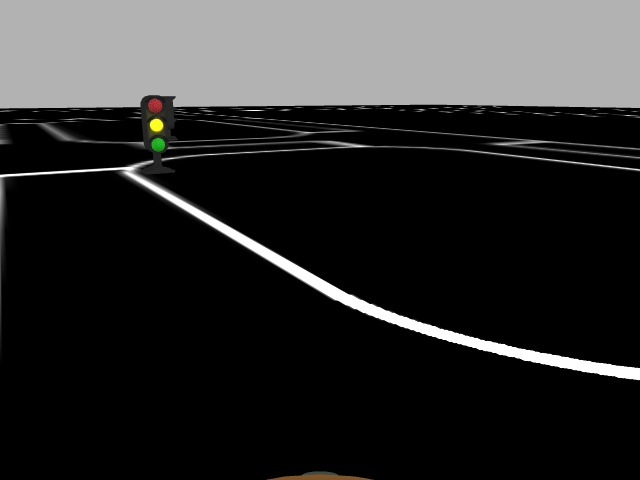yellow_light: (146, 96, 169, 156)
